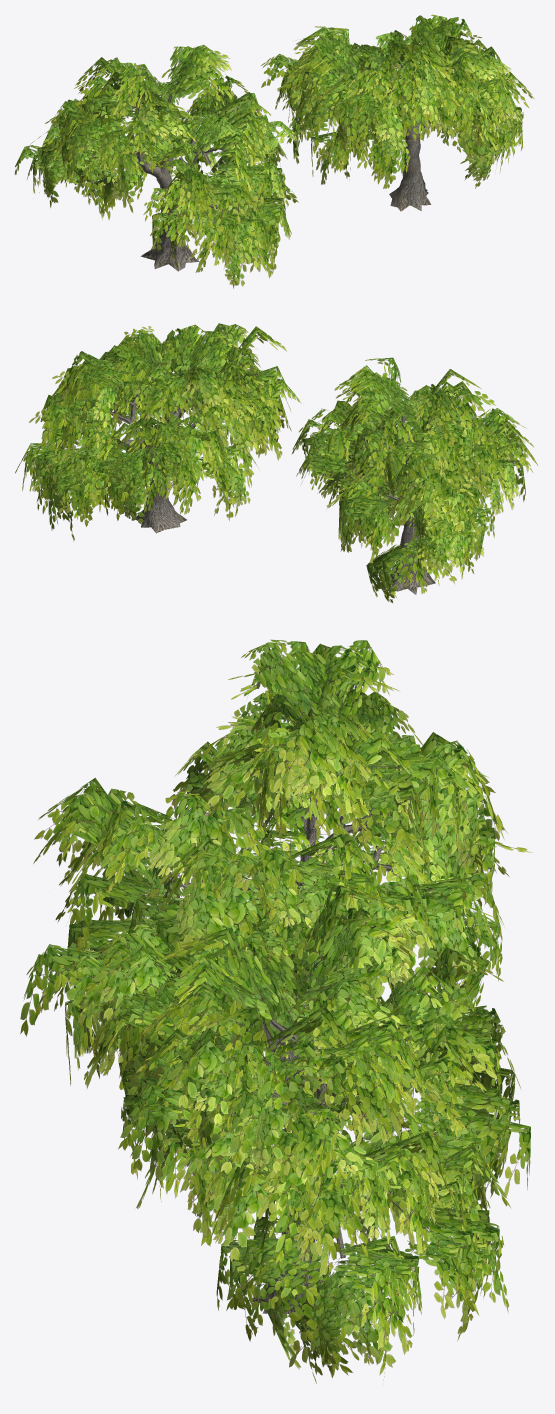
File: tree6.glb
3 views of the same model, one above another, from view 1: azimuth 30°, elevation 25°; view 2: azimuth 150°, elevation 25°; view 3: azimuth 270°, elevation 25° (orthographic). The views are drawn at different scales.
Parts seen in each view (by area): view 1: Object_8, Object_5, Object_7, Object_4, Object_6, Object_3, Object_2; view 2: Object_8, Object_5, Object_3, Object_4, Object_6, Object_7, Object_2; view 3: Object_8, Object_5, Object_7, Object_6, Object_4, Object_3, Object_2.
Part boxes in pixels (left/top/right/bottom): Object_8: left=40, top=14, right=508, bottom=278; Object_5: left=37, top=18, right=528, bottom=276; Object_7: left=14, top=26, right=521, bottom=286; Object_4: left=27, top=20, right=522, bottom=265; Object_6: left=38, top=15, right=534, bottom=271; Object_3: left=30, top=17, right=523, bottom=288; Object_2: left=92, top=74, right=453, bottom=271; Object_8: left=15, top=324, right=533, bottom=594; Object_5: left=29, top=326, right=526, bottom=601; Object_3: left=41, top=328, right=525, bottom=597; Object_4: left=37, top=336, right=537, bottom=602; Object_6: left=32, top=324, right=523, bottom=596; Object_7: left=29, top=323, right=519, bottom=575; Object_2: left=91, top=379, right=435, bottom=594; Object_8: left=42, top=652, right=515, bottom=1354; Object_5: left=26, top=643, right=530, bottom=1378; Object_7: left=35, top=694, right=511, bottom=1369; Object_6: left=20, top=639, right=510, bottom=1374; Object_4: left=33, top=642, right=510, bottom=1380; Object_3: left=55, top=645, right=532, bottom=1383; Object_2: left=168, top=773, right=419, bottom=1313.
Bounding box in the file's own units: 28.23 × 12.49 × 14.02.
7 materials, 7 textured.
